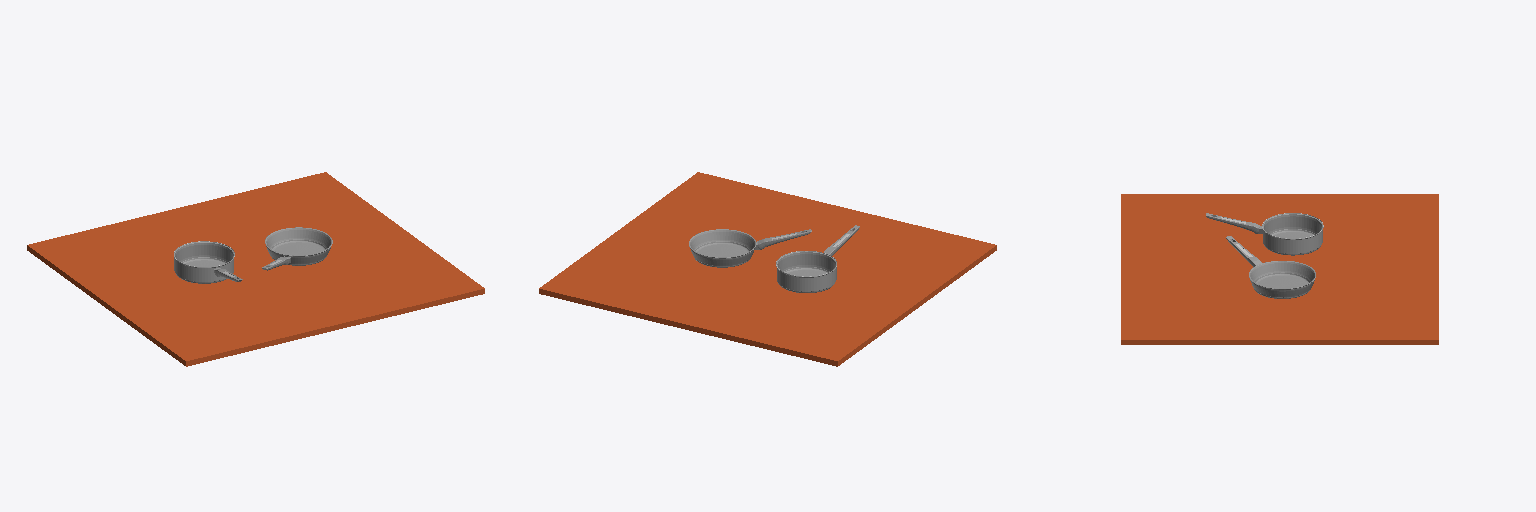
Rendered from pan_scene.obj.
3 views of the same model, side by side, from view 1: azimuth 30°, elevation 25°; view 2: azimuth 150°, elevation 25°; view 3: azimuth 270°, elevation 25° (orthographic).
Parts seen in each view (by area): view 1: Cube.001, Cylinder.003, Cylinder.005_Cylinder.005_Cylinder.002; view 2: Cube.001, Cylinder.003, Cylinder.005_Cylinder.005_Cylinder.002; view 3: Cube.001, Cylinder.003, Cylinder.005_Cylinder.005_Cylinder.002.
Boxes of the visible parts, x1,y1,x2,y2 form: Cube.001: [27, 172, 484, 366]; Cylinder.003: [174, 241, 242, 283]; Cylinder.005_Cylinder.005_Cylinder.002: [262, 227, 332, 270]; Cube.001: [539, 172, 996, 366]; Cylinder.003: [776, 225, 859, 292]; Cylinder.005_Cylinder.005_Cylinder.002: [689, 229, 811, 267]; Cube.001: [1121, 194, 1438, 344]; Cylinder.003: [1206, 213, 1323, 255]; Cylinder.005_Cylinder.005_Cylinder.002: [1226, 236, 1315, 298].
Size of the model in its own units: 17.23 by 1.77 by 15.9.